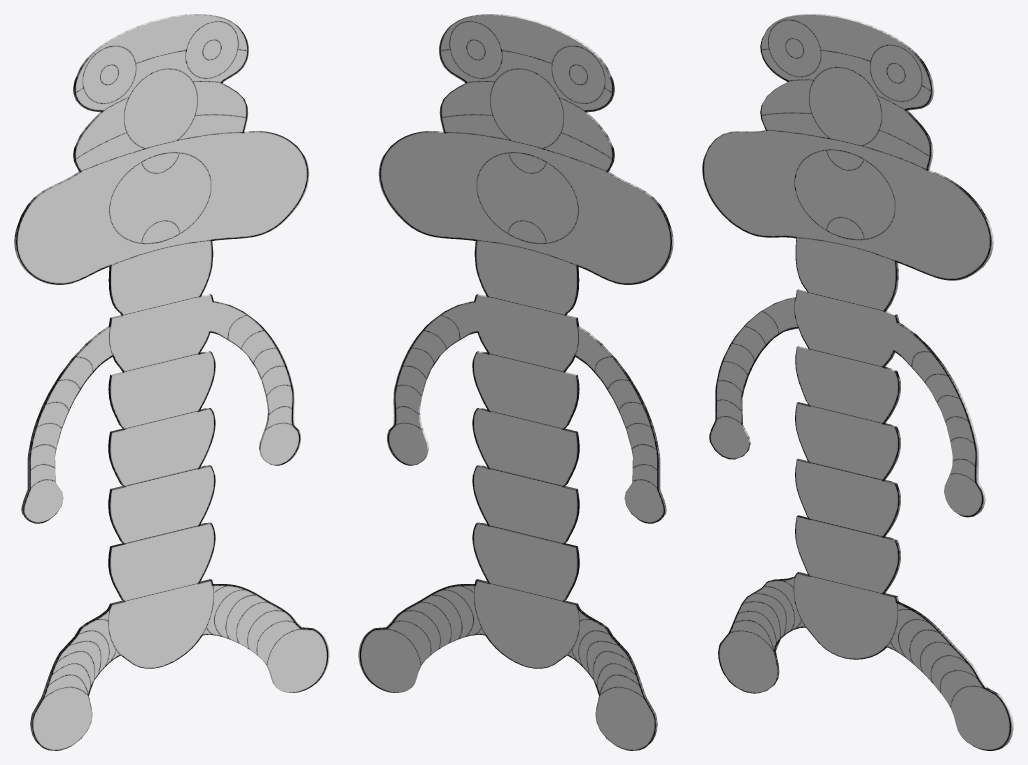
Rendered from 13_jaga.fbx.
The picture shows the model from 3 angles, left to right: view 1: azimuth 30°, elevation 25°; view 2: azimuth 150°, elevation 25°; view 3: azimuth 330°, elevation 25°; orthographic projection.
Parts seen in each view (by area): view 1: planarTrimmedSurface29; view 2: planarTrimmedSurface29; view 3: planarTrimmedSurface29.
Part boxes in pixels (box(x1,y1,x2,y2)): planarTrimmedSurface29: box(14, 14, 329, 750); planarTrimmedSurface29: box(358, 14, 673, 750); planarTrimmedSurface29: box(702, 14, 1013, 750).
Bounding box in the file's own units: 16.26 × 34.96 × 0.1341.
Materials: 1 (1 with a texture image).
